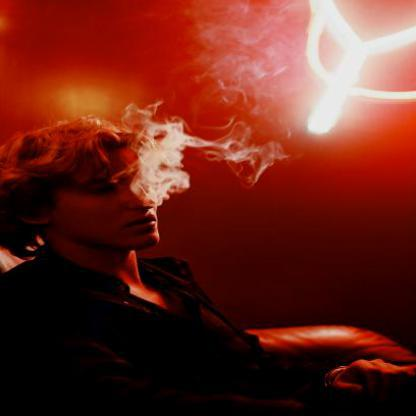person: (0, 128, 255, 415)
smoke: (196, 10, 294, 110), (119, 107, 218, 204), (210, 117, 310, 188)
